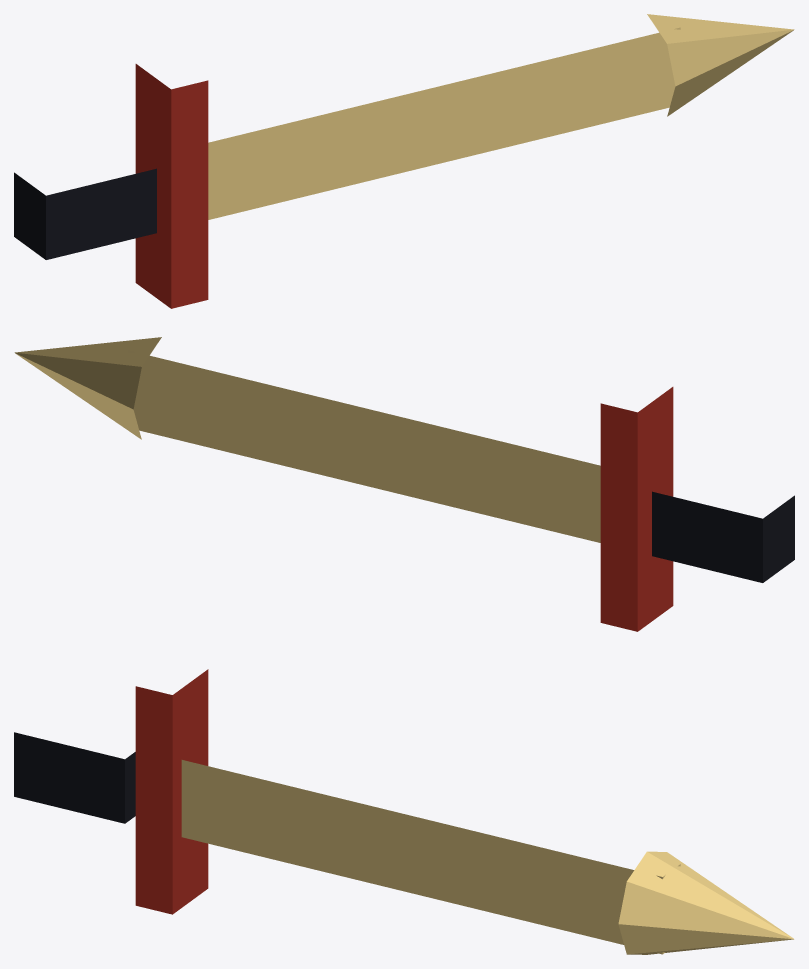
Rendered from legion-commander.glb.
3 renders of one model, top to bottom at view 1: azimuth 30°, elevation 25°; view 2: azimuth 150°, elevation 25°; view 3: azimuth 330°, elevation 25°, orthographic.
Parts seen in each view (by area): view 1: legion-commander-blade, legion-commander-guard, legion-commander-grip, legion-commander-tip; view 2: legion-commander-blade, legion-commander-guard, legion-commander-grip, legion-commander-tip; view 3: legion-commander-blade, legion-commander-guard, legion-commander-tip, legion-commander-grip.
Boxes of the visible parts, x1,y1,x2,y2 form: legion-commander-blade: (208,27,680,219); legion-commander-guard: (135,64,208,308); legion-commander-grip: (14,168,156,259); legion-commander-tip: (647,14,794,116); legion-commander-blade: (128,350,600,542); legion-commander-guard: (600,387,673,631); legion-commander-grip: (652,491,794,582); legion-commander-tip: (14,337,161,439); legion-commander-blade: (181,760,680,954); legion-commander-guard: (135,669,208,914); legion-commander-tip: (618,851,794,954); legion-commander-grip: (14,732,135,823).
Size of the model in its own units: 1.24 by 0.34 by 0.16.
